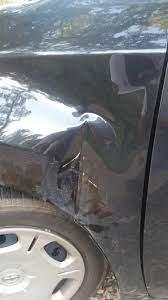fender-dent: (0, 9, 156, 253)
